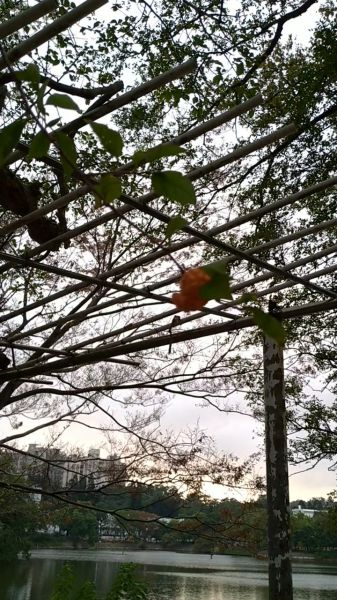eggs: (168, 267, 214, 316)
